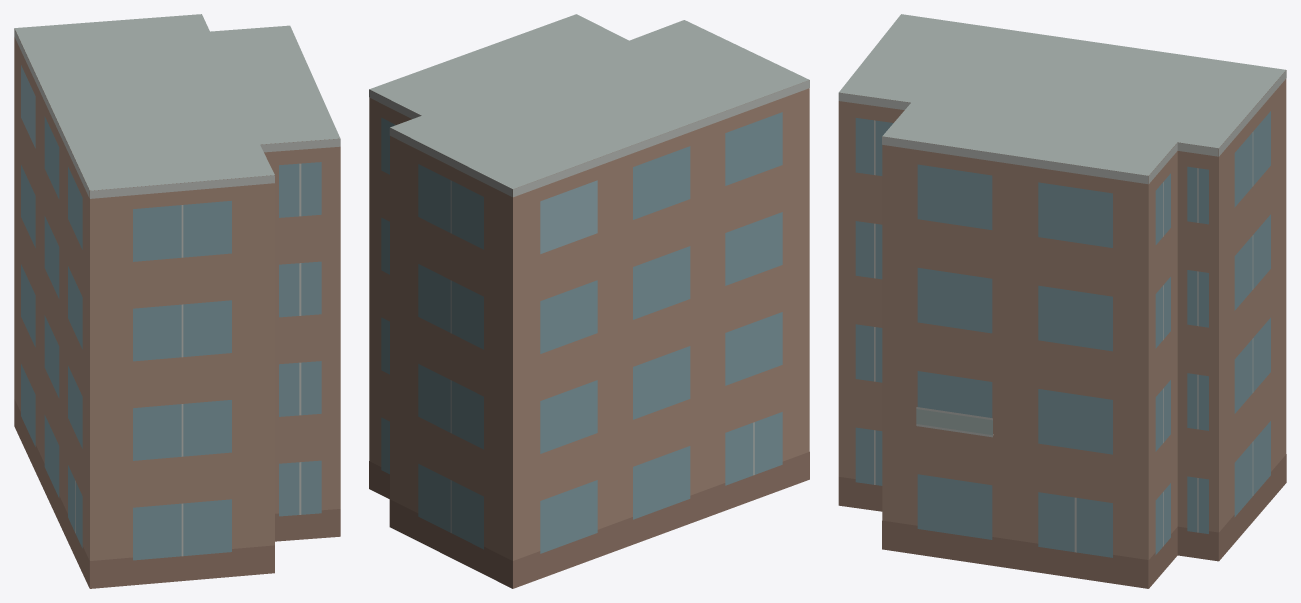
File: survey-upis-32705371.glb
The picture shows the model from 3 angles, left to right: view 1: azimuth 30°, elevation 25°; view 2: azimuth 150°, elevation 25°; view 3: azimuth 270°, elevation 25°; orthographic projection. The views are drawn at different scales.
Parts seen in each view (by area): view 1: survey-upis-32705371.tmp; view 2: survey-upis-32705371.tmp; view 3: survey-upis-32705371.tmp.
Boxes of the visible parts, left/top/right/bottom form: survey-upis-32705371.tmp: left=14, top=14, right=340, bottom=588; survey-upis-32705371.tmp: left=369, top=14, right=809, bottom=588; survey-upis-32705371.tmp: left=838, top=14, right=1286, bottom=588.
Bounding box in the file's own units: 10.01 × 11.9 × 11.7.
